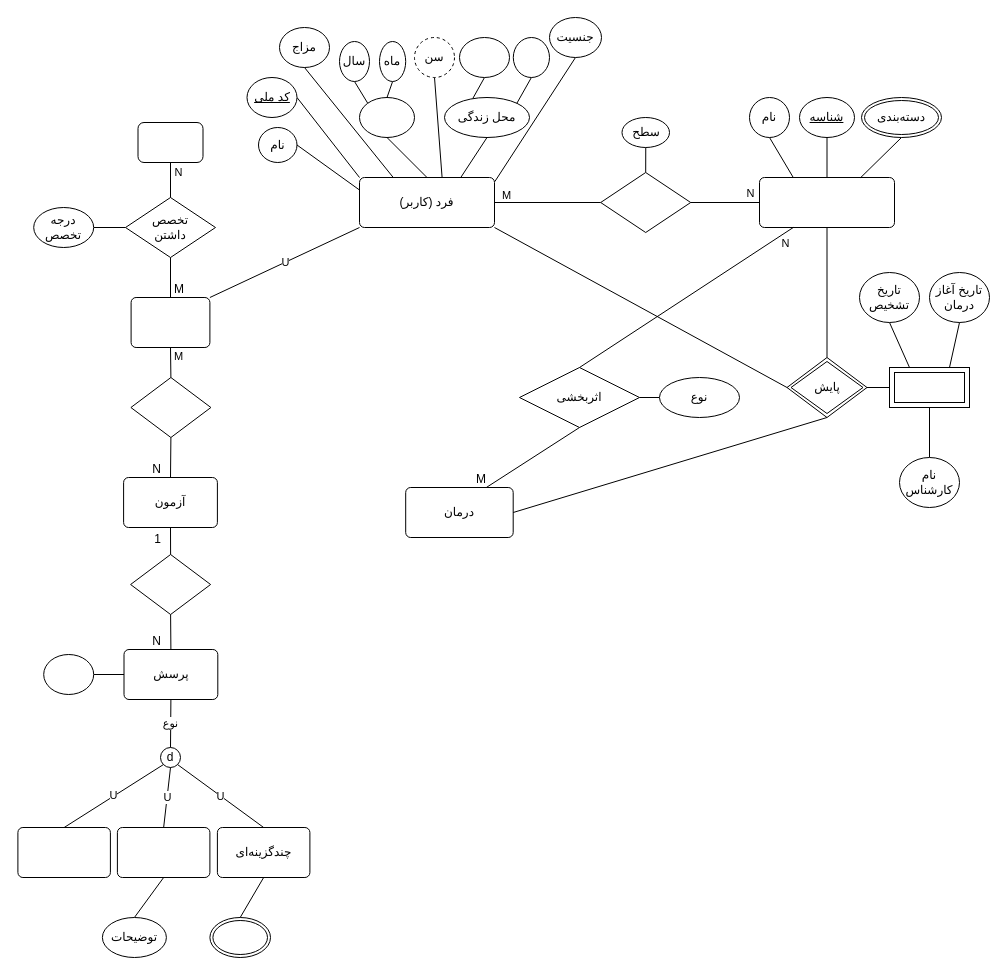
Image size: 1007x975. Some labels were removed from this diagram. The shapes that lost their labels are listed below. From the top down, each one's box as (x1, y1, x2, y2) in pixels, then its label:
(458, 36, 510, 78): کشور
(512, 36, 550, 78): شهر
(358, 96, 414, 138): تاریخ تولد
(137, 122, 203, 162): تخصص
(600, 172, 691, 232): مبتلا بودن
(758, 176, 894, 228): بیماری
(130, 296, 210, 348): متخصص
(130, 376, 211, 438): ویراستاری
(888, 366, 970, 408): سابقه
(130, 554, 211, 614): دربرداشتن
(43, 654, 94, 694): امتیاز ویژه
(17, 826, 110, 878): آزمایشگاهی
(116, 826, 210, 878): پاسخ کوتاه
(209, 916, 270, 958): پاسخ
